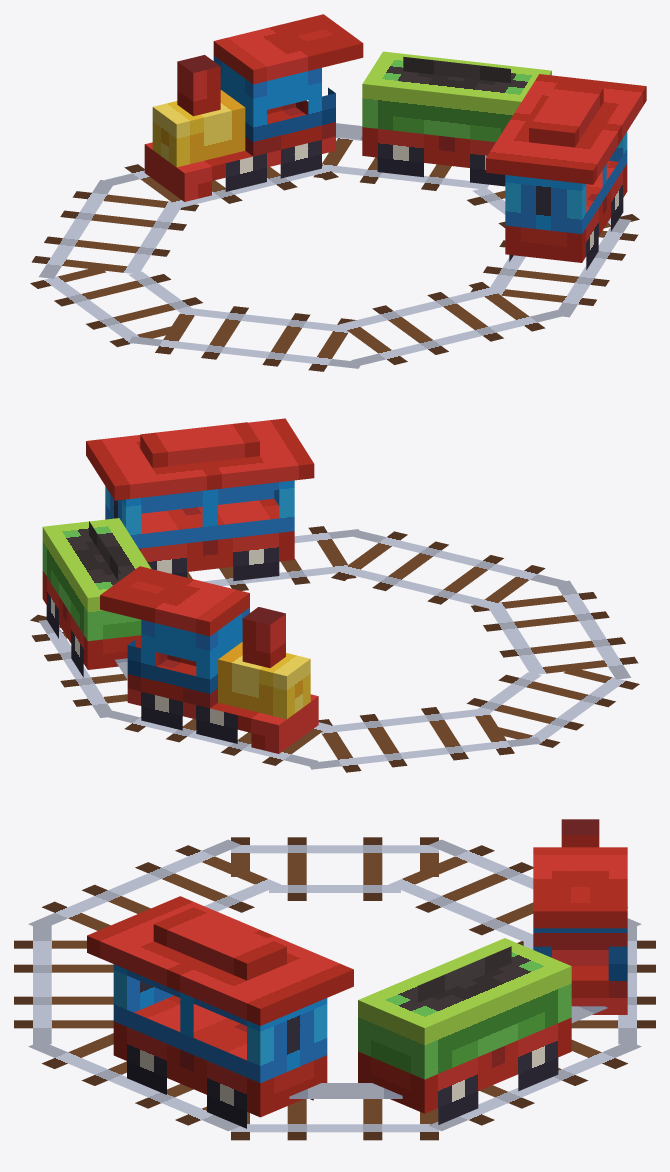
The model's file is train-toy.gltf.
3 renders of one model, top to bottom at view 1: azimuth 30°, elevation 25°; view 2: azimuth 150°, elevation 25°; view 3: azimuth 270°, elevation 25°, orthographic. The views are drawn at different scales.
Parts seen in each view (by area): view 1: cube (×20); view 2: cube (×18); view 3: cube (×20).
Part boxes in pixels (<box>): cube (×20): <box>30,14,646,371</box>; cube (×18): <box>32,418,639,772</box>; cube (×20): <box>14,819,655,1140</box>.
Bounding box in the file's own units: 0.9906 × 0.2597 × 0.8553.
Materials: 2 (2 with a texture image).
